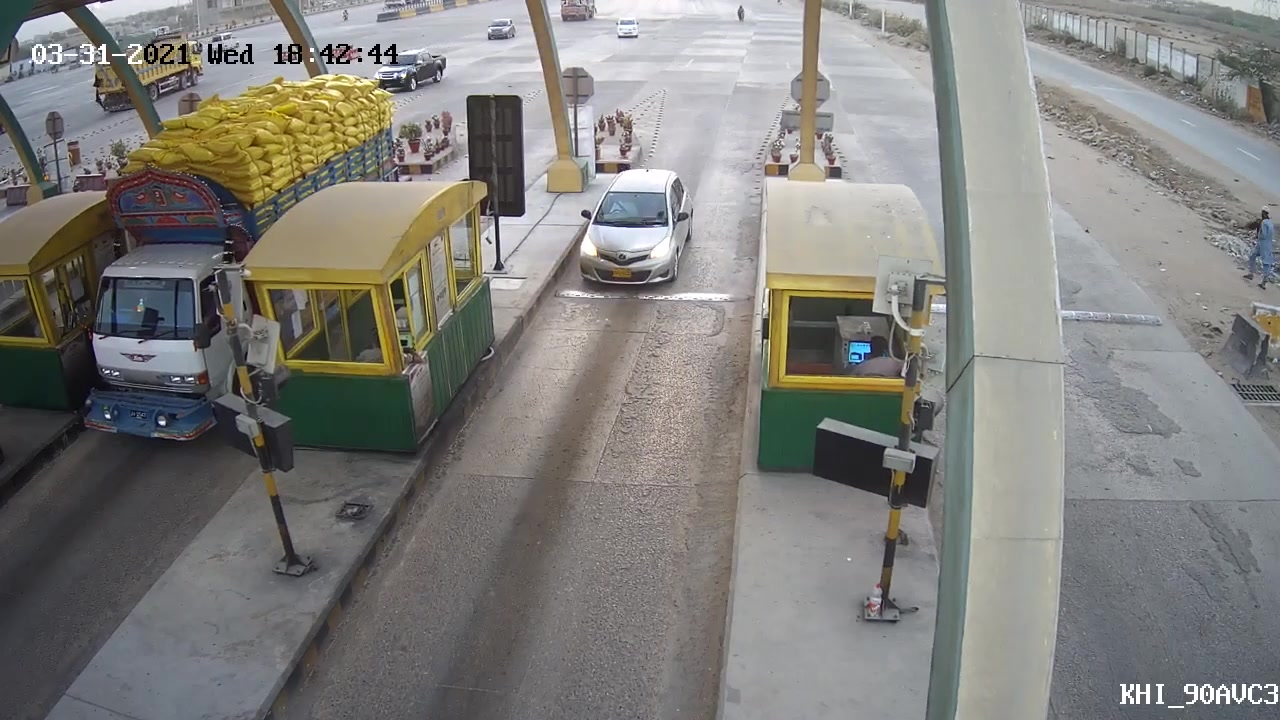F1: (565, 163, 695, 295)
